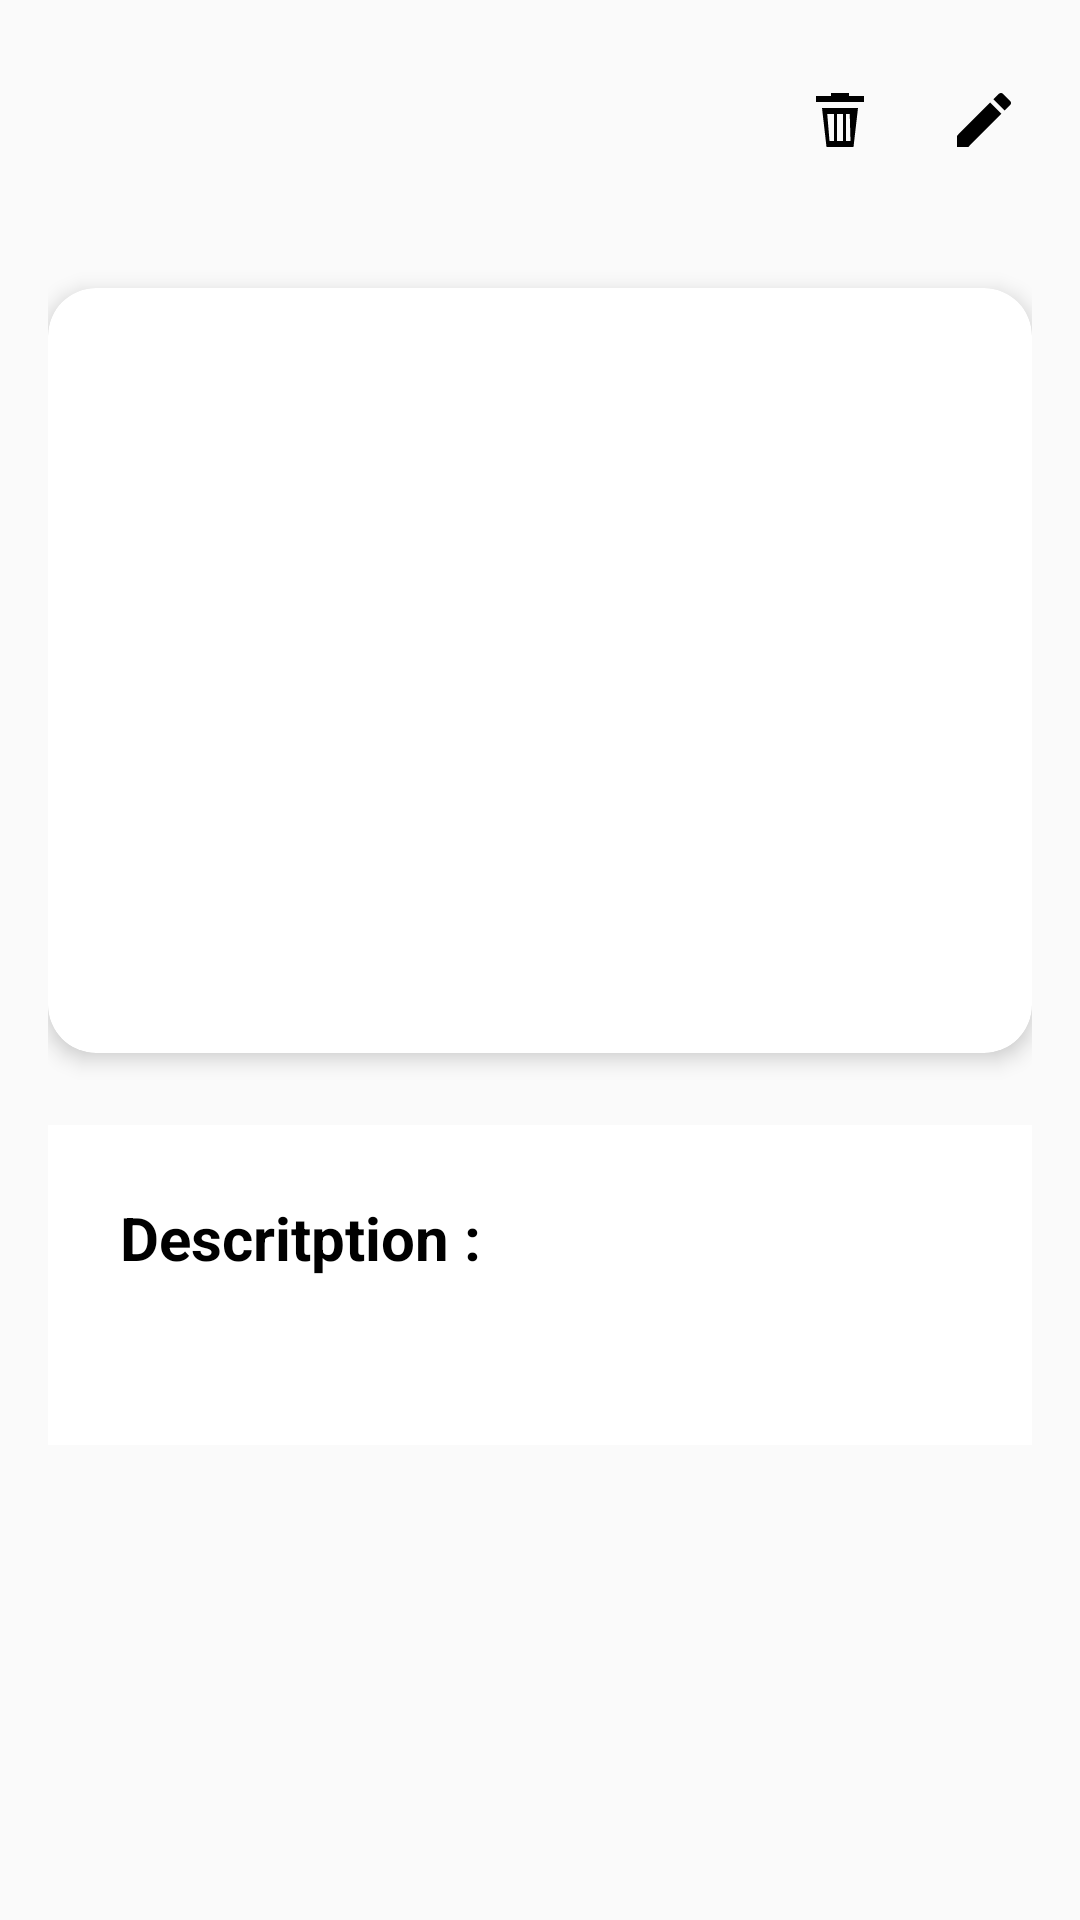

Screen size 1080 x 1920. Icon name, then its center in pixels as [x,y]:
Modifier: [984,120]
Supprimer: [840,120]
